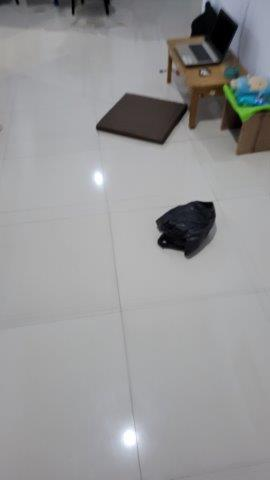plastik: (153, 199, 219, 260)
